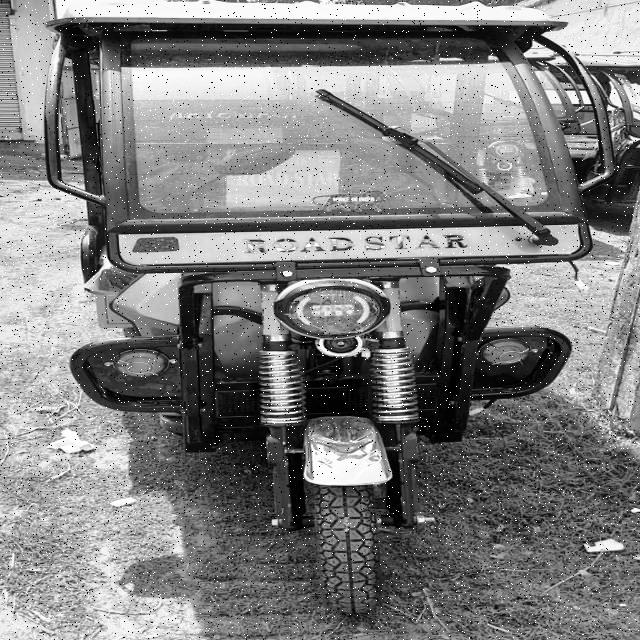Toto: (57, 0, 607, 618)
